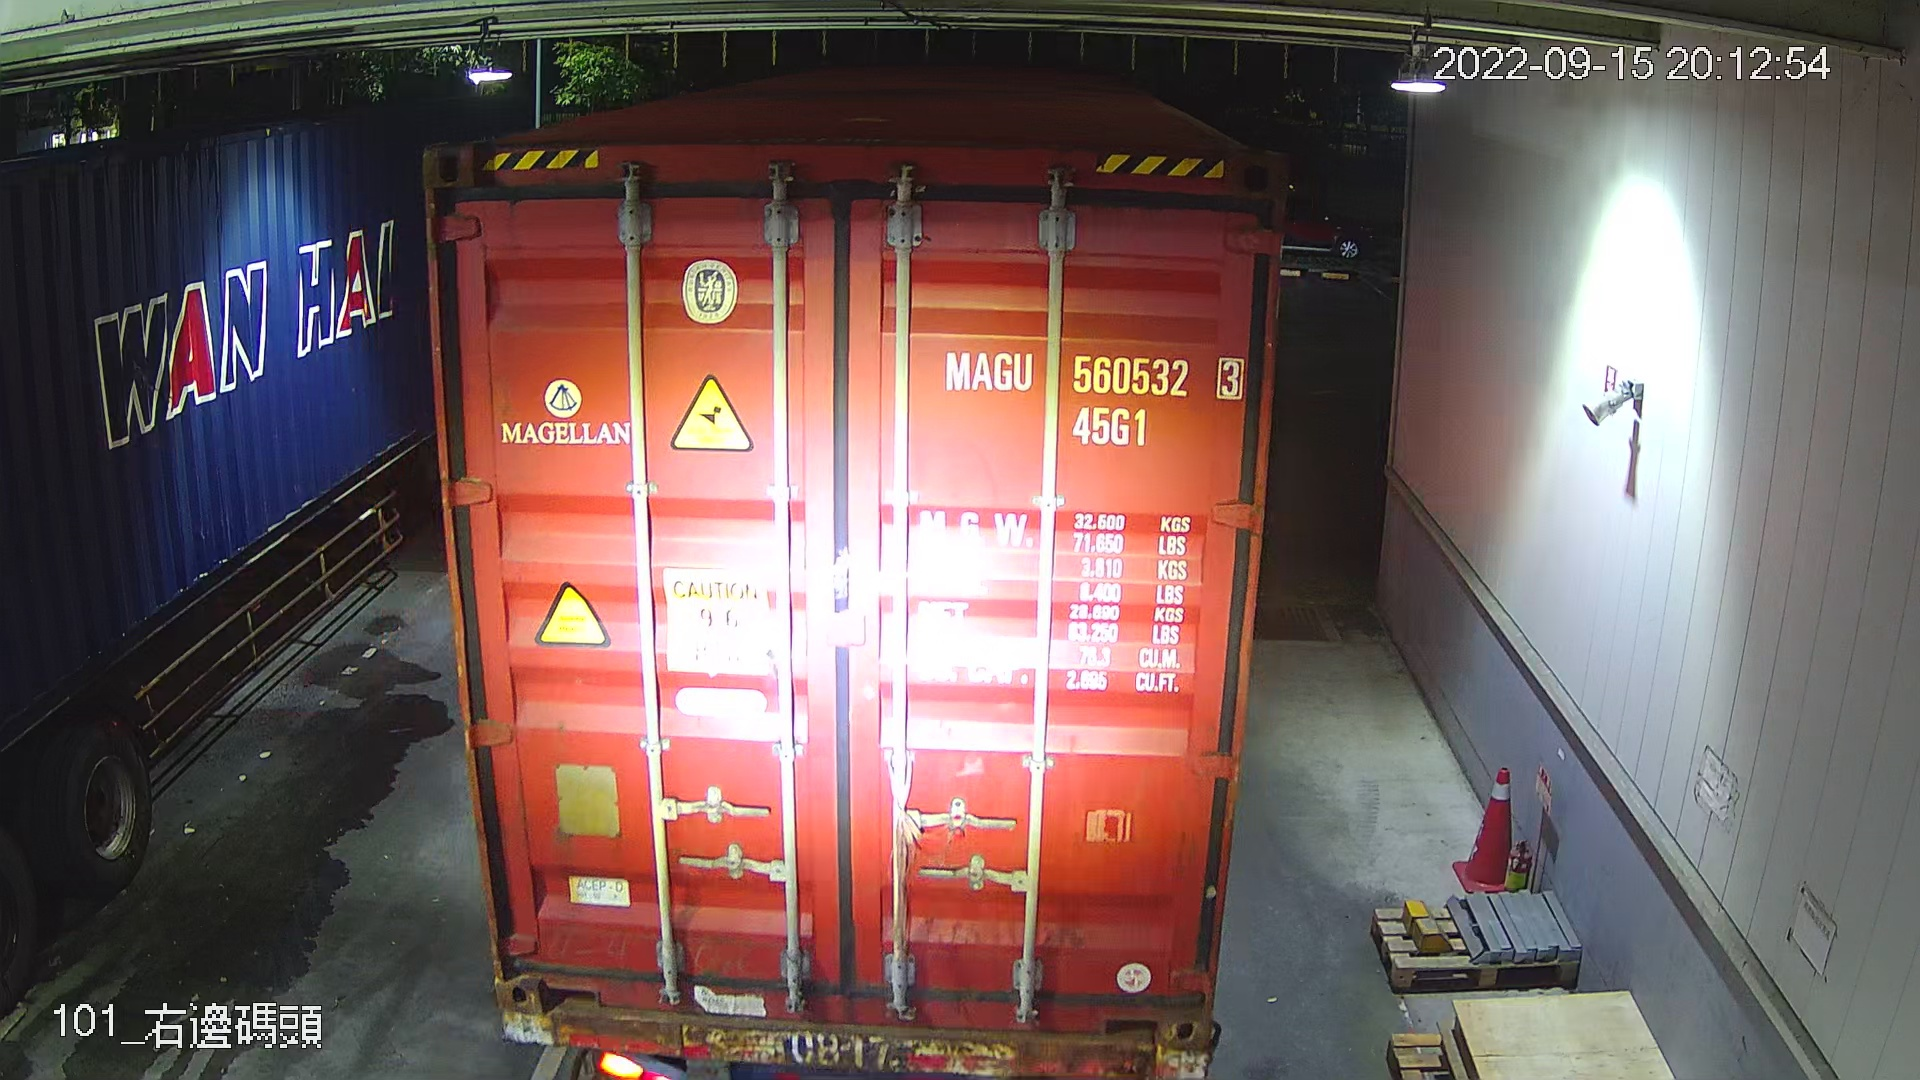container: (935, 339, 1254, 458)
